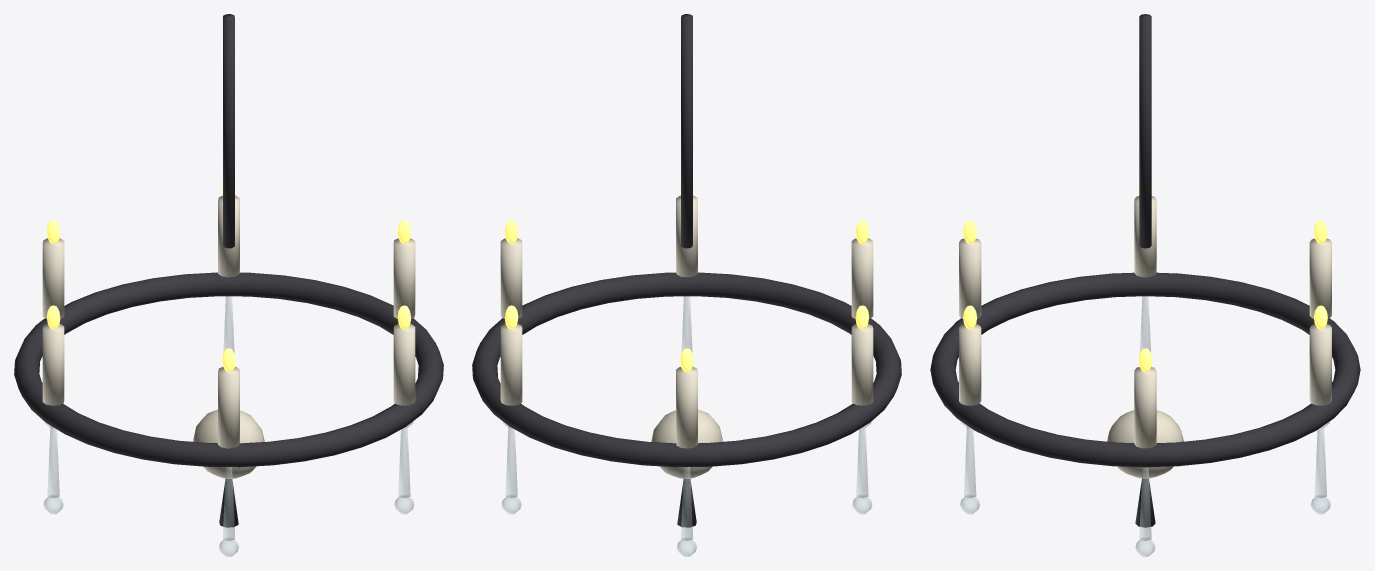
File: chandelier_crystal_drops.glb
3 views of the same model, side by side, from view 1: azimuth 30°, elevation 25°; view 2: azimuth 150°, elevation 25°; view 3: azimuth 270°, elevation 25° (orthographic).
Parts seen in each view (by area): view 1: GD_chandelier_crystal_drops__m0, GD_chandelier_crystal_drops__m1, GD_chandelier_crystal_drops__m3, GD_chandelier_crystal_drops__m4, GD_chandelier_crystal_drops__m2; view 2: GD_chandelier_crystal_drops__m0, GD_chandelier_crystal_drops__m1, GD_chandelier_crystal_drops__m3, GD_chandelier_crystal_drops__m4, GD_chandelier_crystal_drops__m2; view 3: GD_chandelier_crystal_drops__m0, GD_chandelier_crystal_drops__m1, GD_chandelier_crystal_drops__m3, GD_chandelier_crystal_drops__m4, GD_chandelier_crystal_drops__m2.
Part boxes in pixels (box(x1,y1,x2,y2)): GD_chandelier_crystal_drops__m0: box(14, 14, 443, 527); GD_chandelier_crystal_drops__m1: box(42, 195, 415, 448); GD_chandelier_crystal_drops__m3: box(43, 296, 414, 556); GD_chandelier_crystal_drops__m4: box(193, 409, 264, 478); GD_chandelier_crystal_drops__m2: box(46, 184, 411, 371); GD_chandelier_crystal_drops__m0: box(472, 14, 901, 527); GD_chandelier_crystal_drops__m1: box(500, 195, 873, 448); GD_chandelier_crystal_drops__m3: box(501, 296, 872, 556); GD_chandelier_crystal_drops__m4: box(651, 409, 722, 478); GD_chandelier_crystal_drops__m2: box(504, 184, 869, 371); GD_chandelier_crystal_drops__m0: box(930, 14, 1360, 527); GD_chandelier_crystal_drops__m1: box(959, 196, 1331, 448); GD_chandelier_crystal_drops__m3: box(960, 296, 1330, 556); GD_chandelier_crystal_drops__m4: box(1107, 410, 1183, 478); GD_chandelier_crystal_drops__m2: box(963, 184, 1327, 371).
Size of the model in its own units: 0.85 by 1.1 by 0.85.
